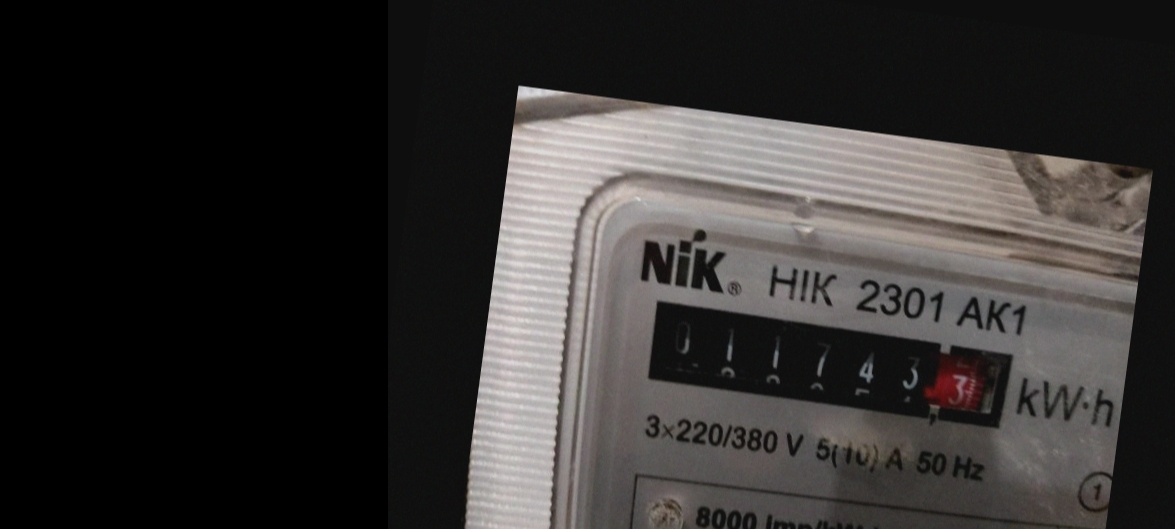0: (669, 319, 696, 360), (719, 324, 742, 367)
1: (765, 332, 786, 374)
3: (898, 352, 924, 397), (945, 371, 970, 412)
4: (854, 346, 879, 389)
7: (807, 337, 836, 384)
screen: (625, 287, 1024, 444)
